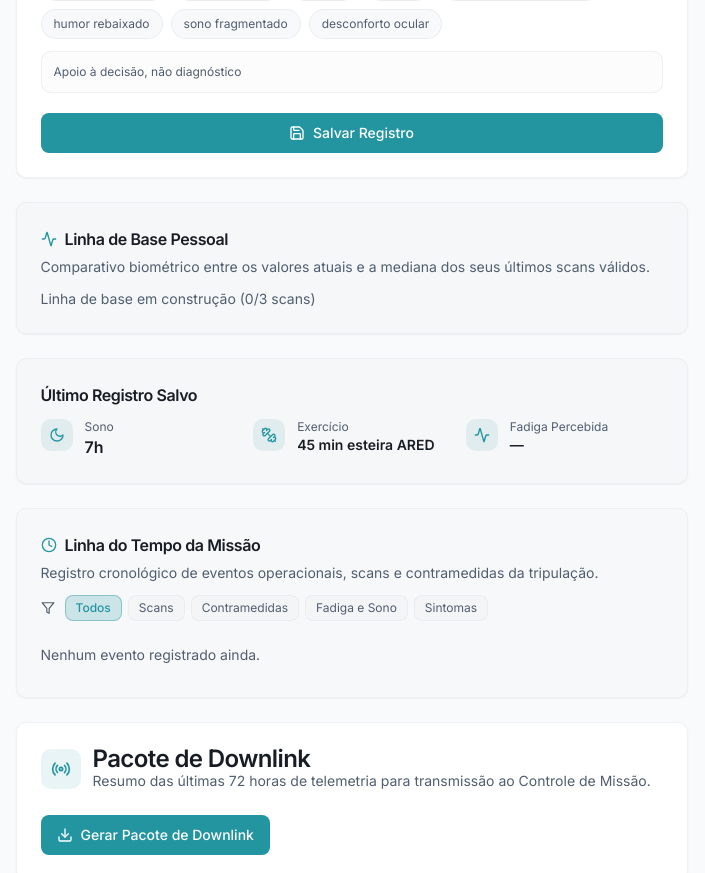
Test: MissionLog (AAA Pattern) › 8. Pacote de Downlink (72h) - Modo Autônomo vs Online (AAA) › em modo online atualiza o rótulo para "Pacote gerado"
The image size is (705, 873).
(page scrolled)
Click the button "Gerar Pacote de Downlink": (155, 835) [40,815,270,855]
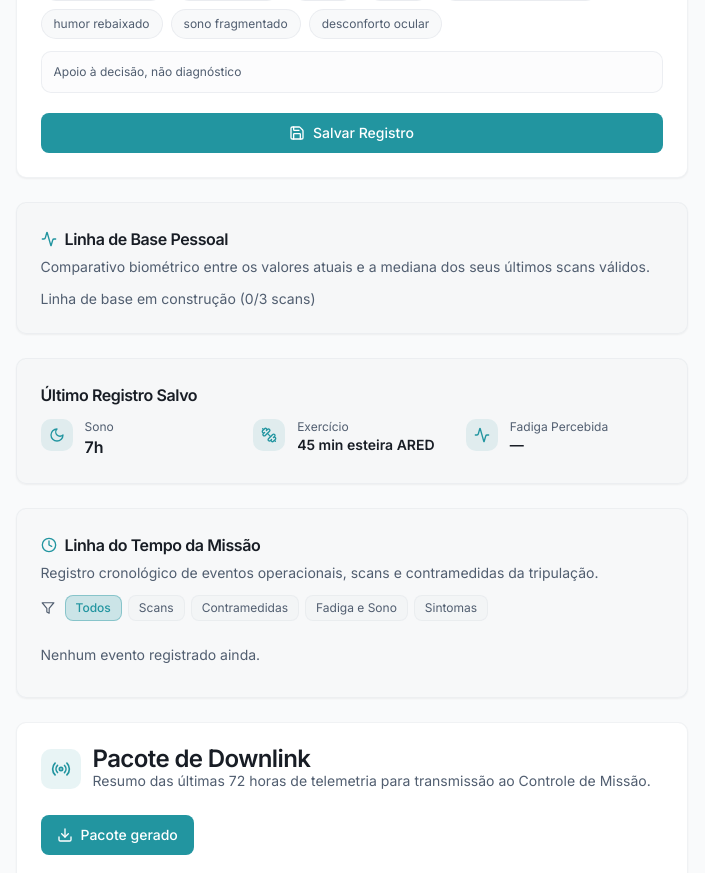
Expected: the button named "Gerar Pacote de Downlink" reads "Pacote gerado", [40,815,194,855]
